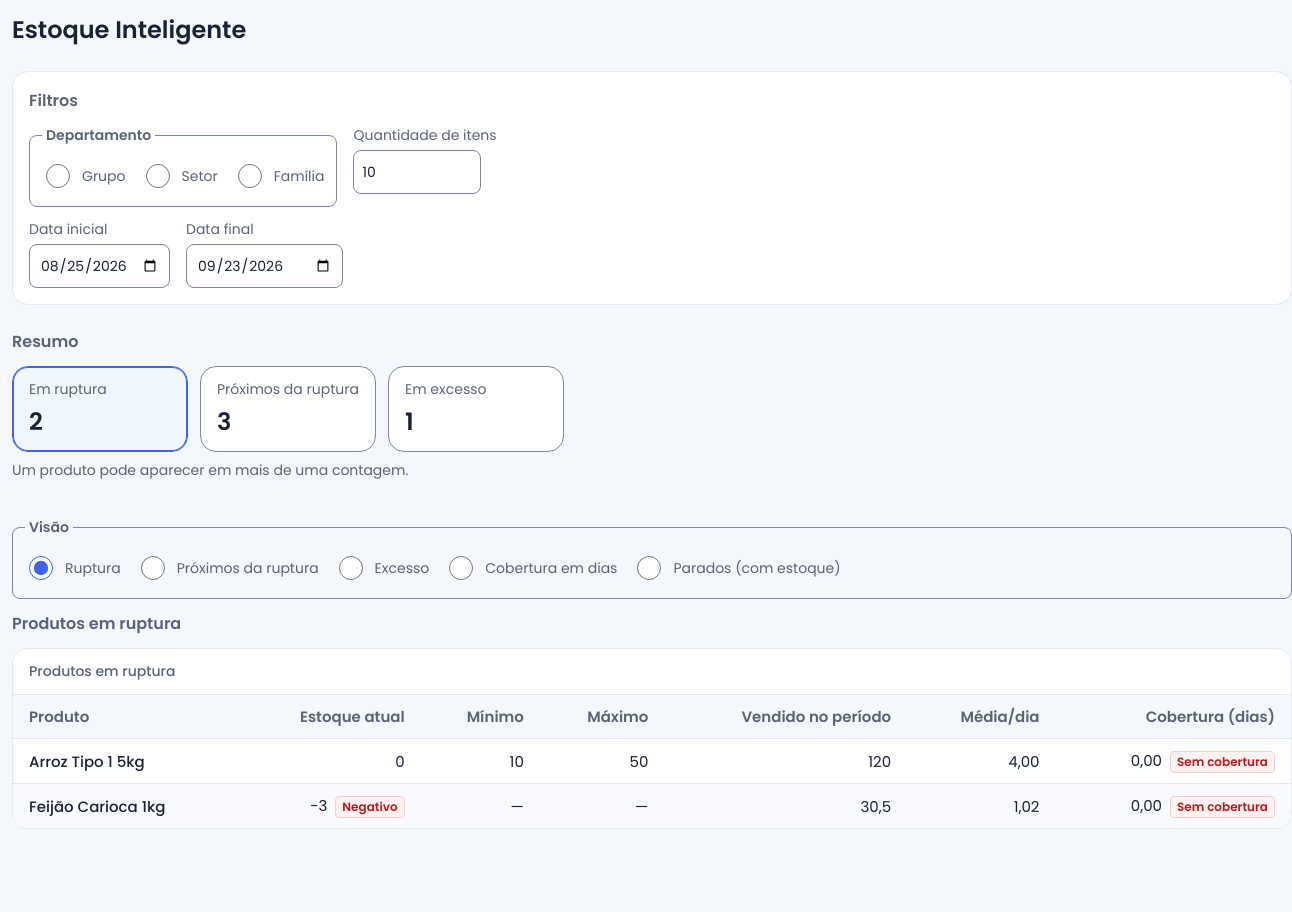
Test: EstoquePage › Exibe lista de produtos em ruptura e próximos da ruptura a partir de uma resposta mock
Check: the column heading "Arroz Tipo 1 5kg" is shown, box [13, 738, 238, 784]
Check: the column heading "Feijão Carioca 1kg" is shown, box [13, 784, 238, 828]
# Visão Próximos da ruptura.
Click the radio button labelled "Próximos da ruptura" at point(153, 568), box [141, 556, 165, 580]
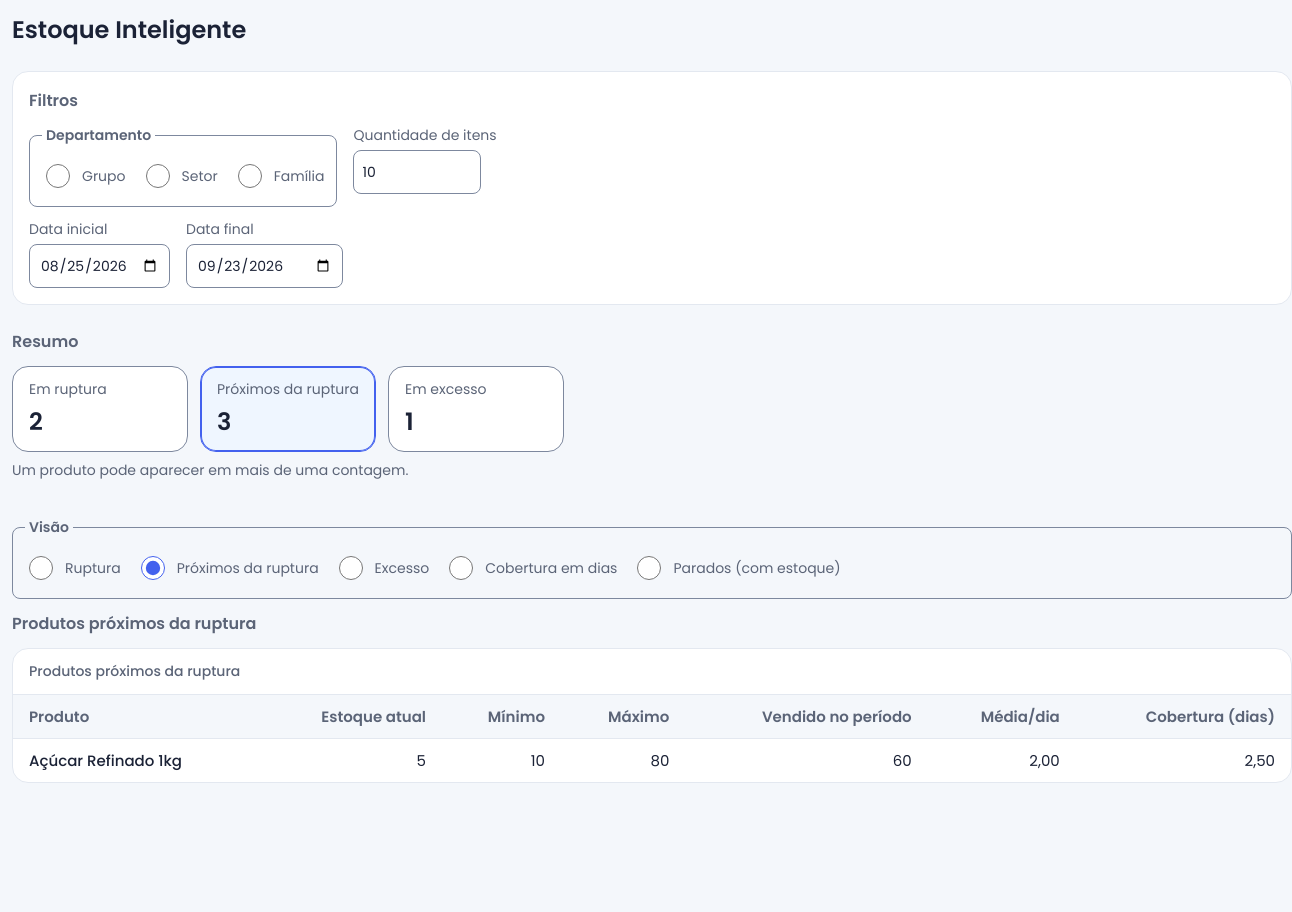
Check: the button "Em ruptura 2" is shown, box [12, 366, 188, 452]
Check: the column heading "Açúcar Refinado 1kg" is shown, box [13, 738, 260, 782]
Check: the column heading "Arroz Tipo 1 5kg" is gone
